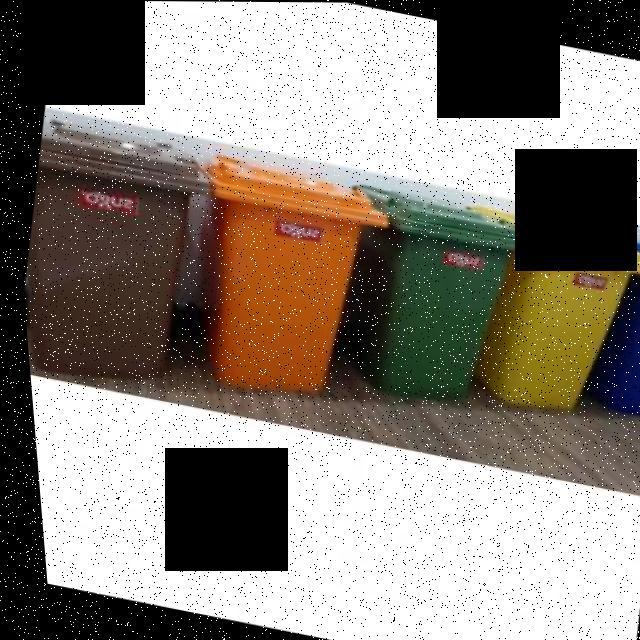bin: (154, 149, 385, 416), (7, 111, 215, 395)
